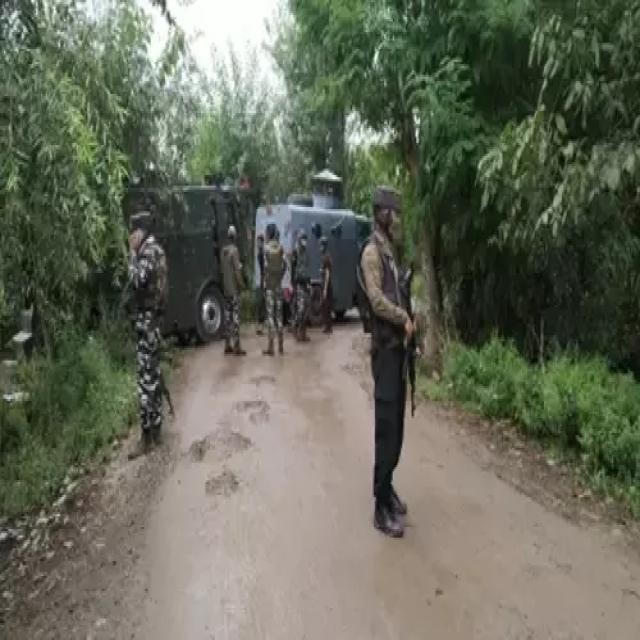Forest: (1, 0, 640, 640)
Militant: (348, 182, 440, 550), (115, 182, 172, 476), (285, 180, 339, 352), (255, 202, 292, 380), (212, 208, 247, 378)
